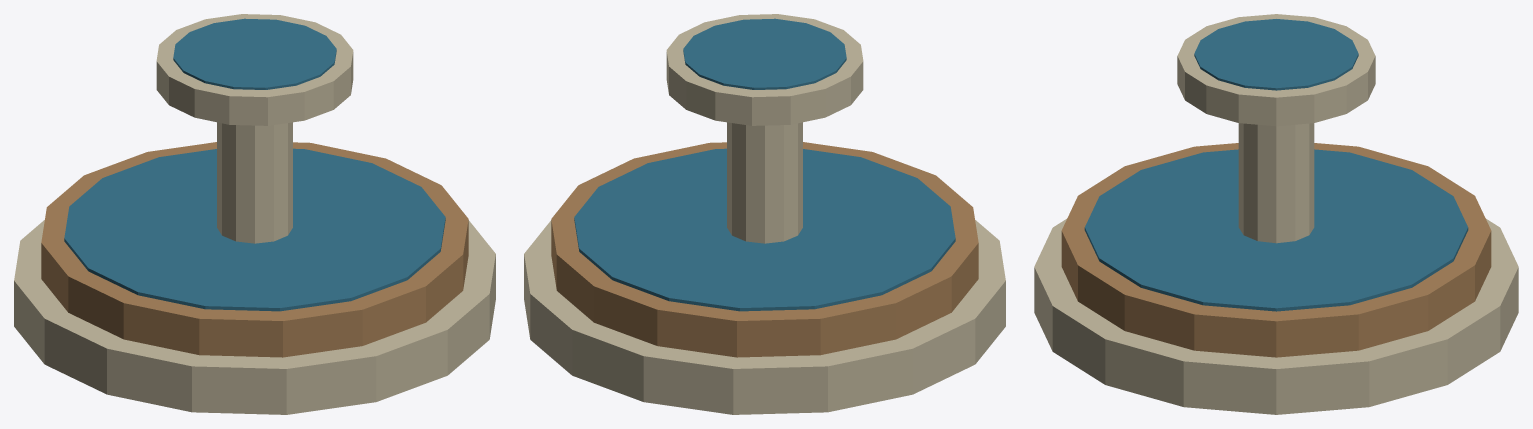
The model's file is stone_fountain.glb.
3 renders of one model, left to right at view 1: azimuth 30°, elevation 25°; view 2: azimuth 150°, elevation 25°; view 3: azimuth 270°, elevation 25°, orthographic.
Visible parts, largest first — view 1: stone_fountain; view 2: stone_fountain; view 3: stone_fountain.
Boxes of the visible parts, bbox=[...] form: stone_fountain: bbox=[14, 14, 495, 414]; stone_fountain: bbox=[524, 14, 1005, 414]; stone_fountain: bbox=[1034, 14, 1518, 414].
Size of the model in its own units: 2.3 by 1.36 by 2.3.
